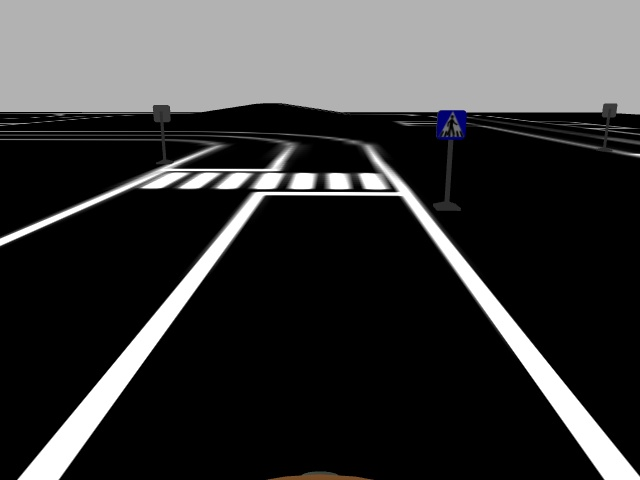crosswalk: (436, 107, 468, 142)
